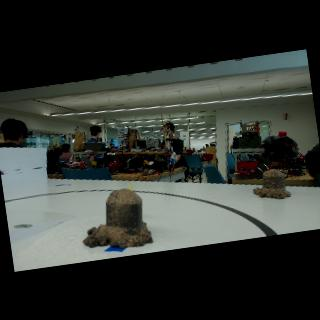teletubby: (129, 183, 132, 191)
